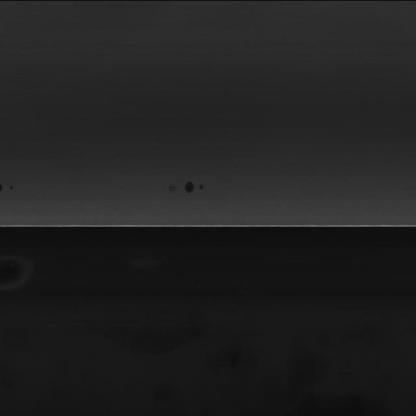oil_spot: (161, 176, 213, 202)
